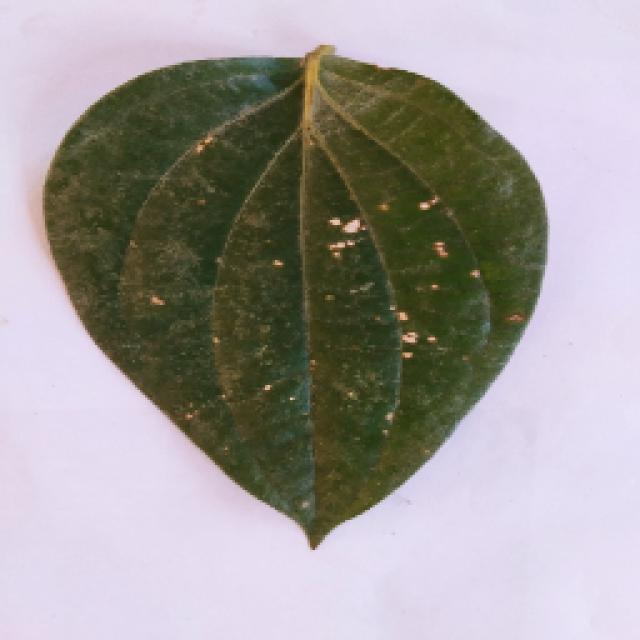pollu-disease: (20, 50, 562, 550)
